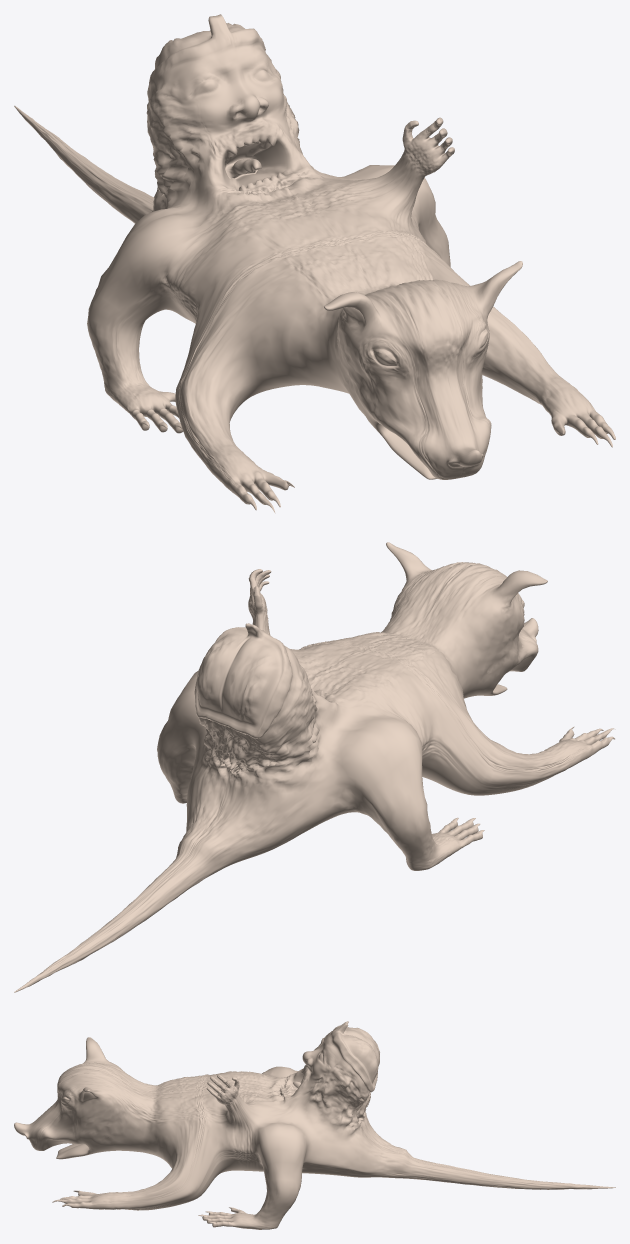
Rendered from Dwarf_Rat_FBX.fbx.
3 views of the same model, one above another, from view 1: azimuth 30°, elevation 25°; view 2: azimuth 150°, elevation 25°; view 3: azimuth 270°, elevation 25° (orthographic). The views are drawn at different scales.
Visible parts, largest first — view 1: Mesh_Dwarf_Rat1; view 2: Mesh_Dwarf_Rat1; view 3: Mesh_Dwarf_Rat1.
Boxes of the visible parts, left/top/right/bottom form: Mesh_Dwarf_Rat1: left=14, top=14, right=615, bottom=513; Mesh_Dwarf_Rat1: left=14, top=542, right=615, bottom=992; Mesh_Dwarf_Rat1: left=14, top=1021, right=615, bottom=1229.
Size of the model in its own units: 17.05 by 13.1 by 43.16.
